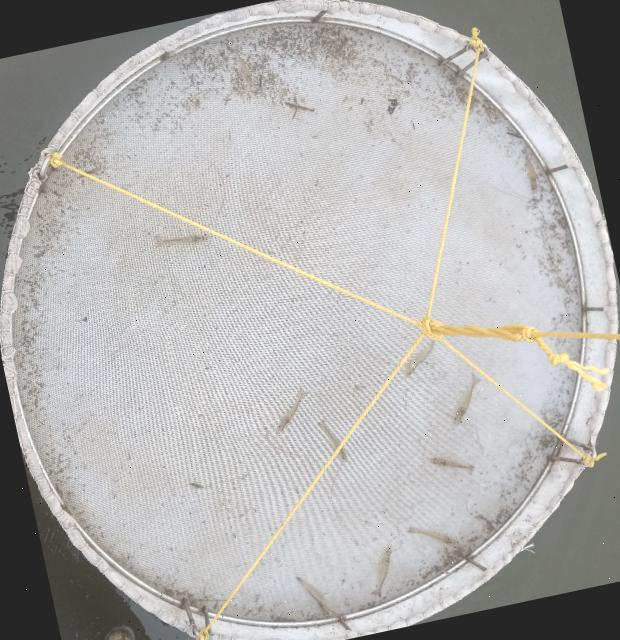shrimp: (276, 388, 308, 433), (297, 577, 334, 615), (454, 373, 481, 425), (403, 337, 435, 377), (318, 420, 347, 461), (407, 527, 459, 549), (373, 547, 391, 598), (430, 458, 474, 475), (284, 100, 314, 112)
